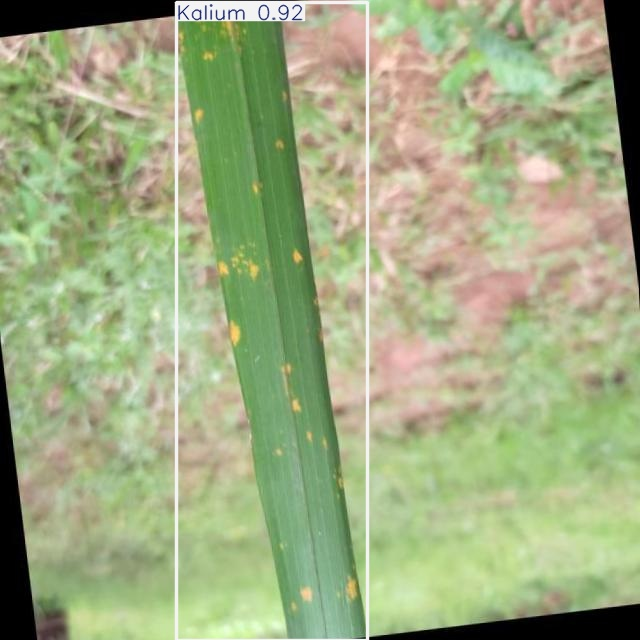Kalium: (176, 2, 367, 640)
